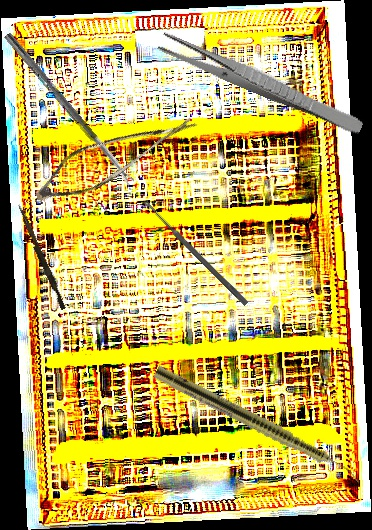Dressing Forceps: (156, 29, 367, 137)
Handpiece: (151, 364, 367, 486)
Micro Scissor: (28, 80, 200, 229)
Pusher: (13, 203, 69, 311)
Surgical Spoon: (3, 32, 135, 187), (141, 198, 250, 307)
